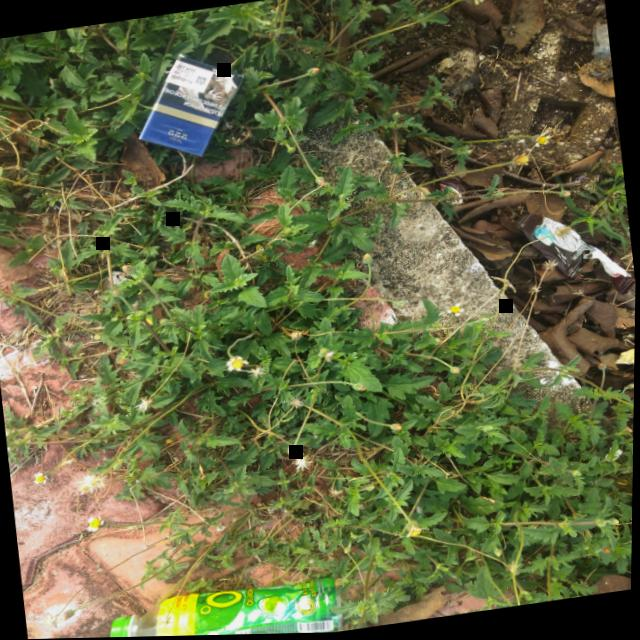Clear plastic bottle: (112, 578, 345, 638)
Other carton: (139, 53, 244, 156)
Other plastic: (515, 215, 636, 297), (432, 166, 468, 207)
Plastic bottle cap: (112, 616, 129, 638)
Plastic film: (591, 25, 613, 81)
